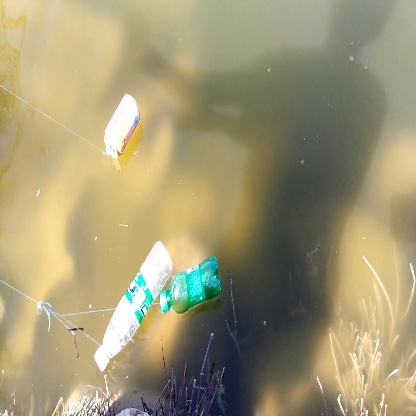bottle: (159, 249, 228, 319)
